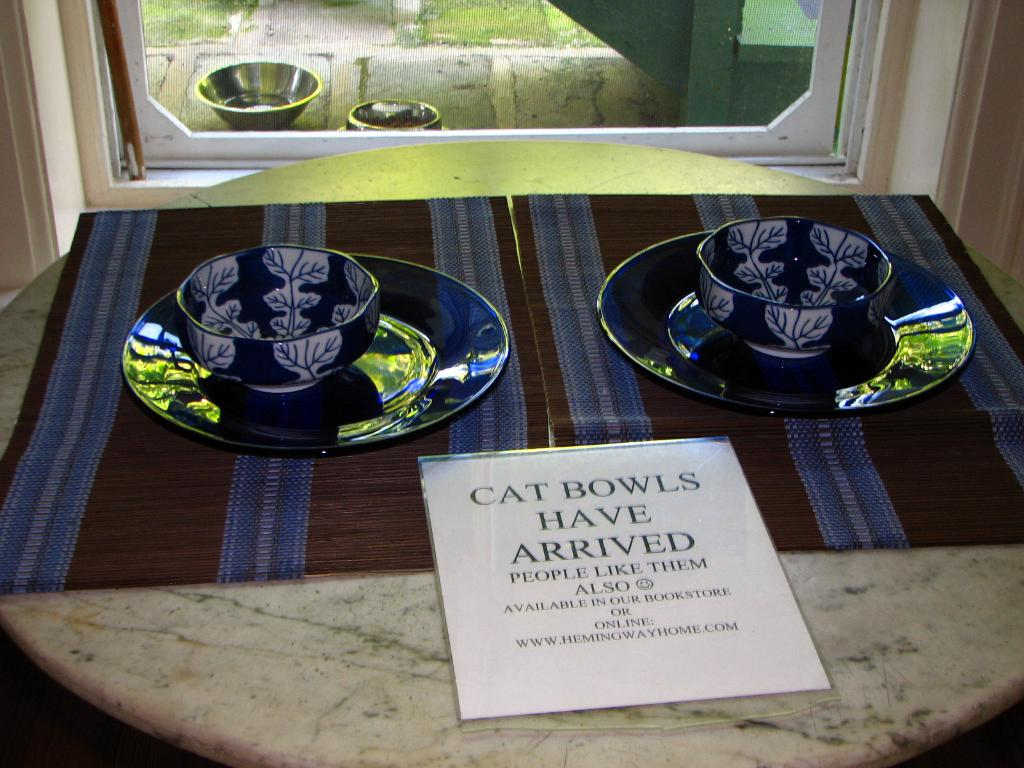plate: (595, 229, 974, 418)
